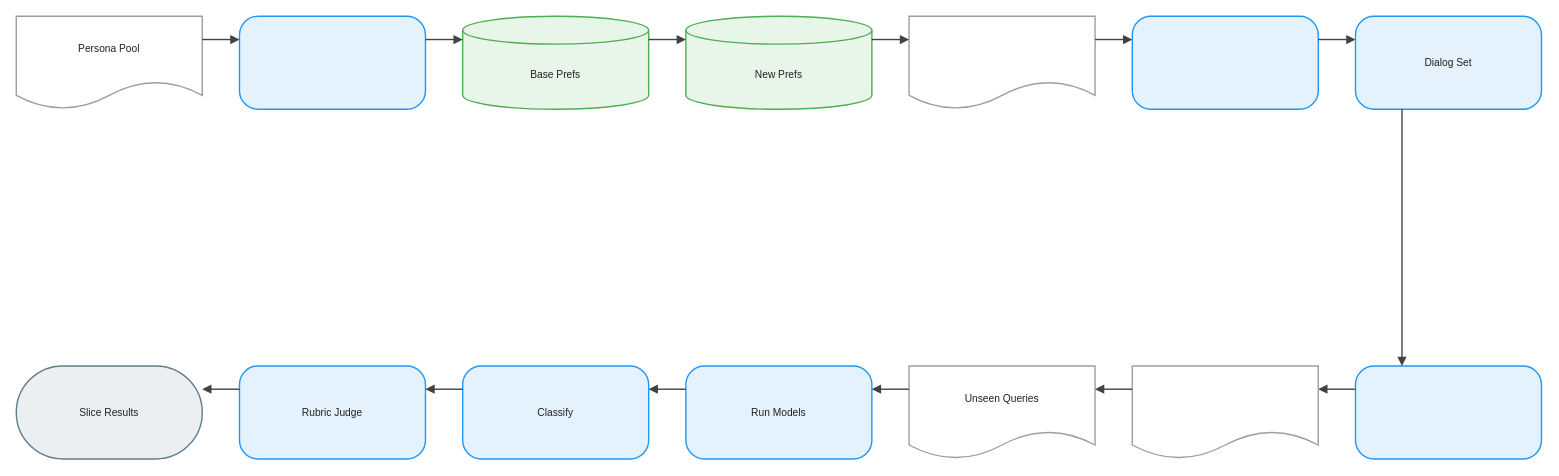
This 1559x476 diagram has some shape labels left out. Here are the shapes that lost their labels. From the top down, the centre of each, then its label:
At (332,62): "User Profiles".
At (1001,62): "Origin Events".
At (1225,62): "Four Modes".
At (1225,412): "Base Queries".
At (1448,412): "Long Histories".
